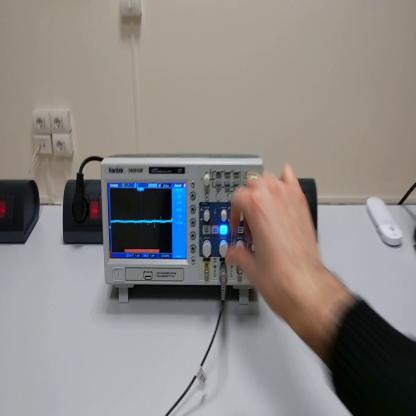hand: (224, 163, 321, 323)
oscilloscope: (102, 151, 266, 303)
socket: (2, 175, 42, 248), (63, 181, 104, 244)
